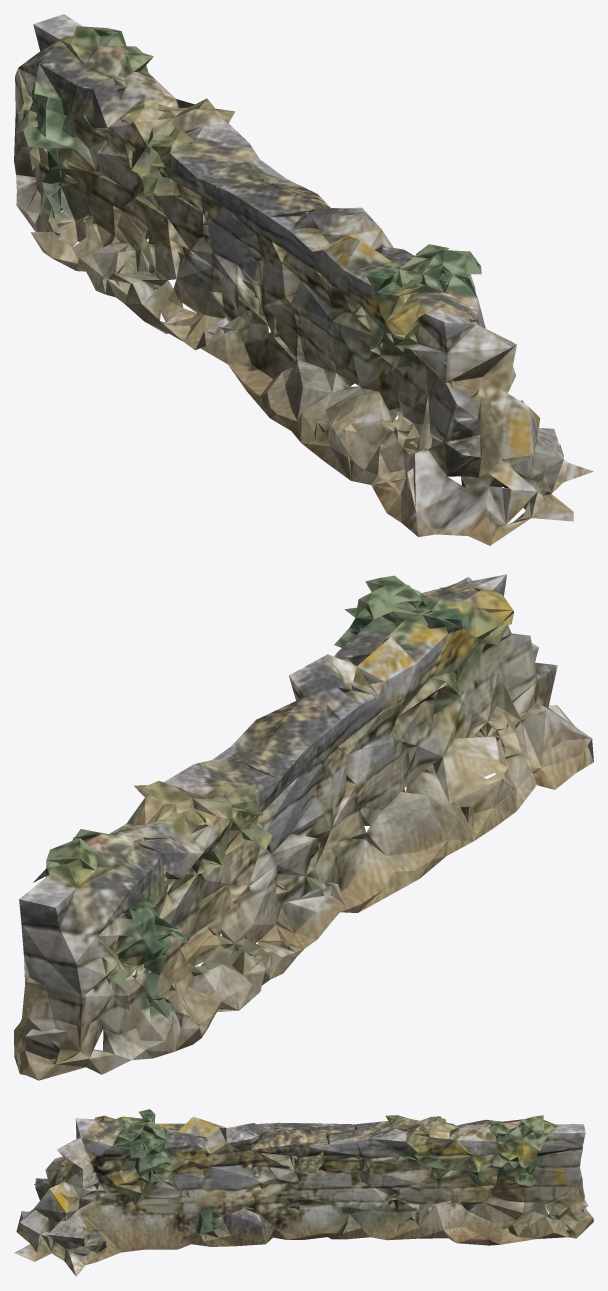
File: it_wall.obj
3 views of the same model, one above another, from view 1: azimuth 30°, elevation 25°; view 2: azimuth 150°, elevation 25°; view 3: azimuth 270°, elevation 25° (orthographic). The views are drawn at different scales.
Visible parts, largest first — view 1: it_wall; view 2: it_wall; view 3: it_wall.
Boxes of the visible parts, left/top/right/bottom form: it_wall: left=14, top=14, right=593, bottom=545; it_wall: left=14, top=574, right=593, bottom=1080; it_wall: left=14, top=1109, right=593, bottom=1276.
Size of the model in its own units: 1.56 by 1.43 by 6.
Materials: 1 (1 with a texture image).
